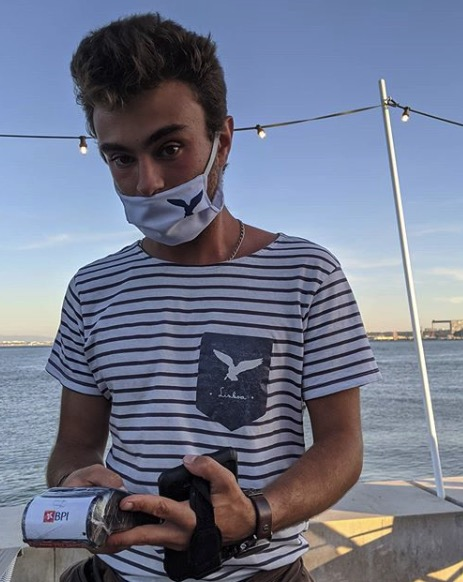mask_weared_incorrect: (93, 127, 235, 241)
